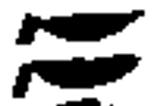Basket: (10, 51, 145, 102), (15, 7, 148, 46)
